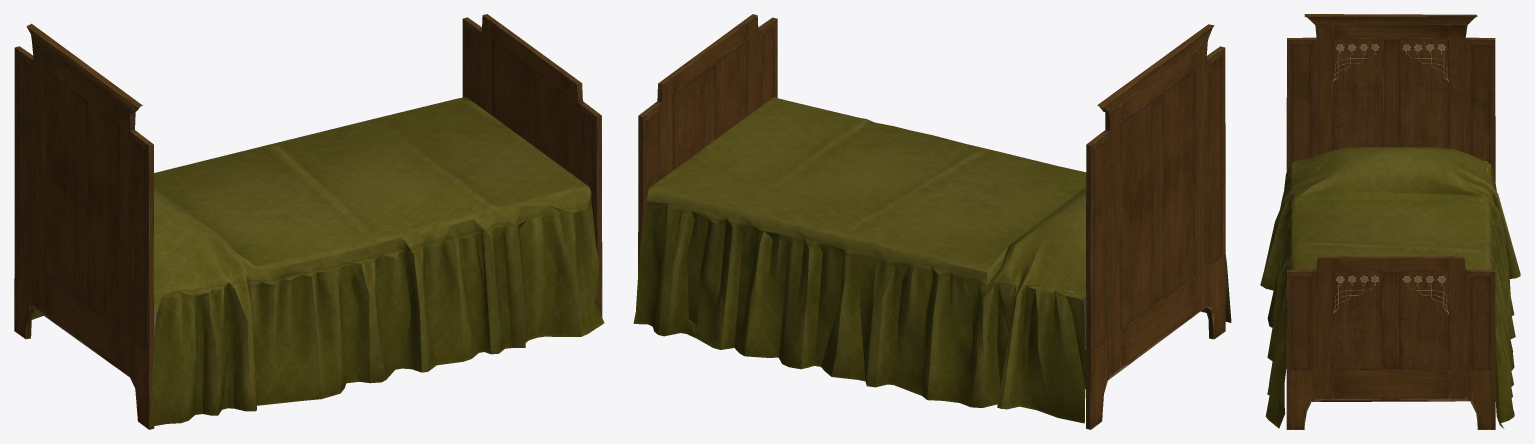
Rendered from bed-small-double.lod1.glb.
3 renders of one model, left to right at view 1: azimuth 30°, elevation 25°; view 2: azimuth 150°, elevation 25°; view 3: azimuth 270°, elevation 25°, orthographic. The views are drawn at different scales.
Visible parts, largest first — view 1: bed-small-double; view 2: bed-small-double; view 3: bed-small-double.
Part boxes in pixels (left/top/right/bottom): bed-small-double: left=14, top=14, right=604, bottom=429; bed-small-double: left=633, top=14, right=1231, bottom=429; bed-small-double: left=1260, top=14, right=1520, bottom=429.
Bounding box in the file's own units: 2.06 × 1.37 × 1.32.
2 materials, 2 textured.
